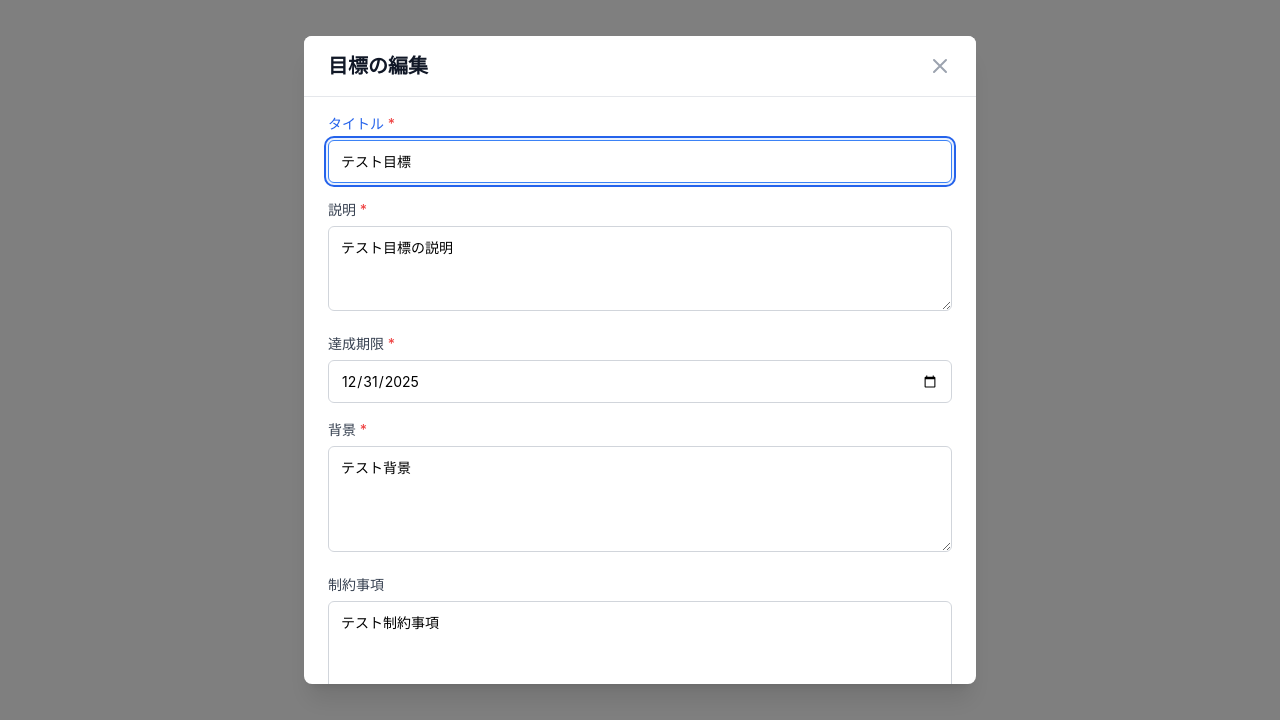
Test: EditModal › キャンセル処理 › 変更がある場合、確認ダイアログが表示される
Replace the text in the field labelled "タイトル *" with "新しいタイトル": (640, 162) x1=328 y1=140 x2=952 y2=183
(page scrolled)
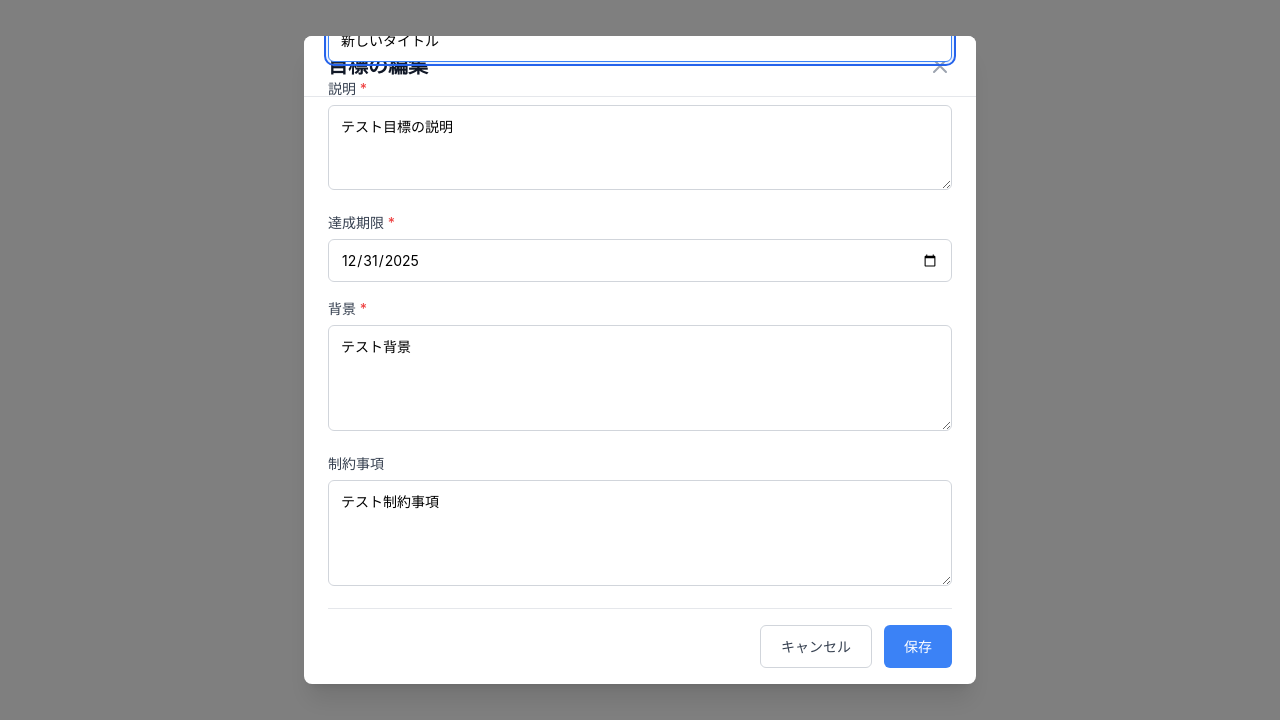
Click the button "キャンセル": (816, 646) x1=760 y1=625 x2=872 y2=668
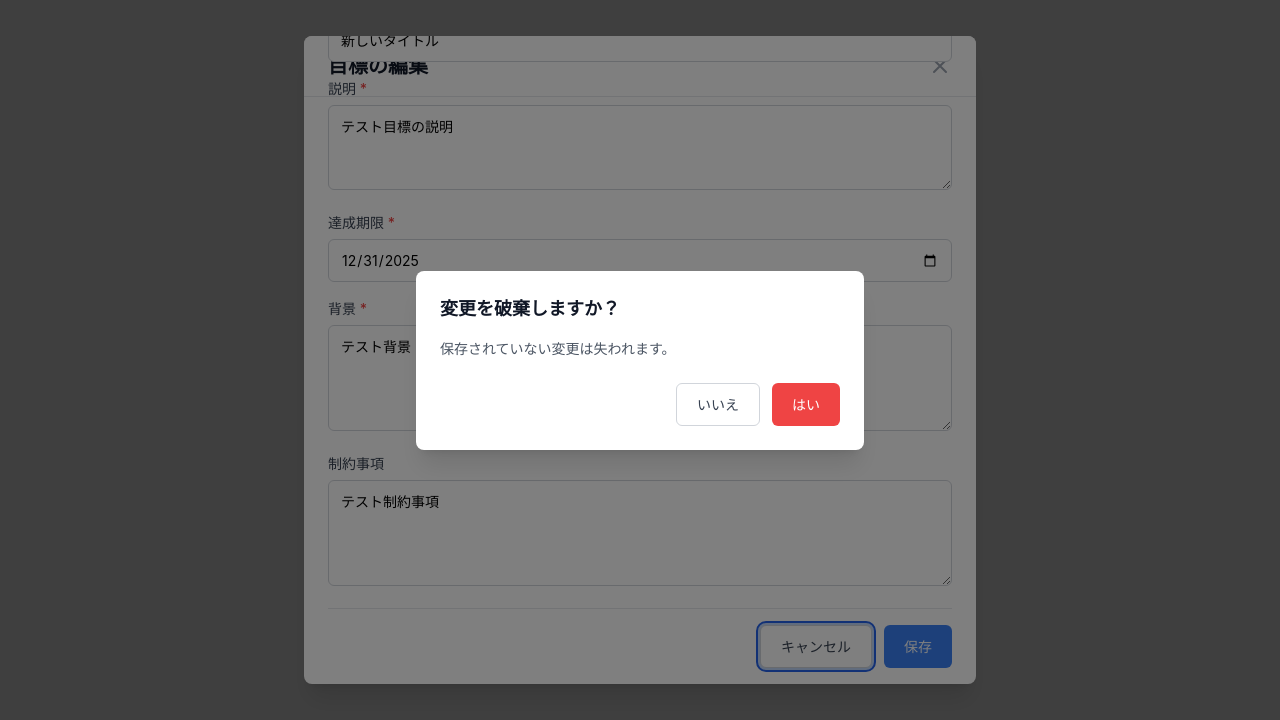
Now the heading "変更を破棄しますか？" is shown, box x1=440 y1=298 x2=620 y2=318
